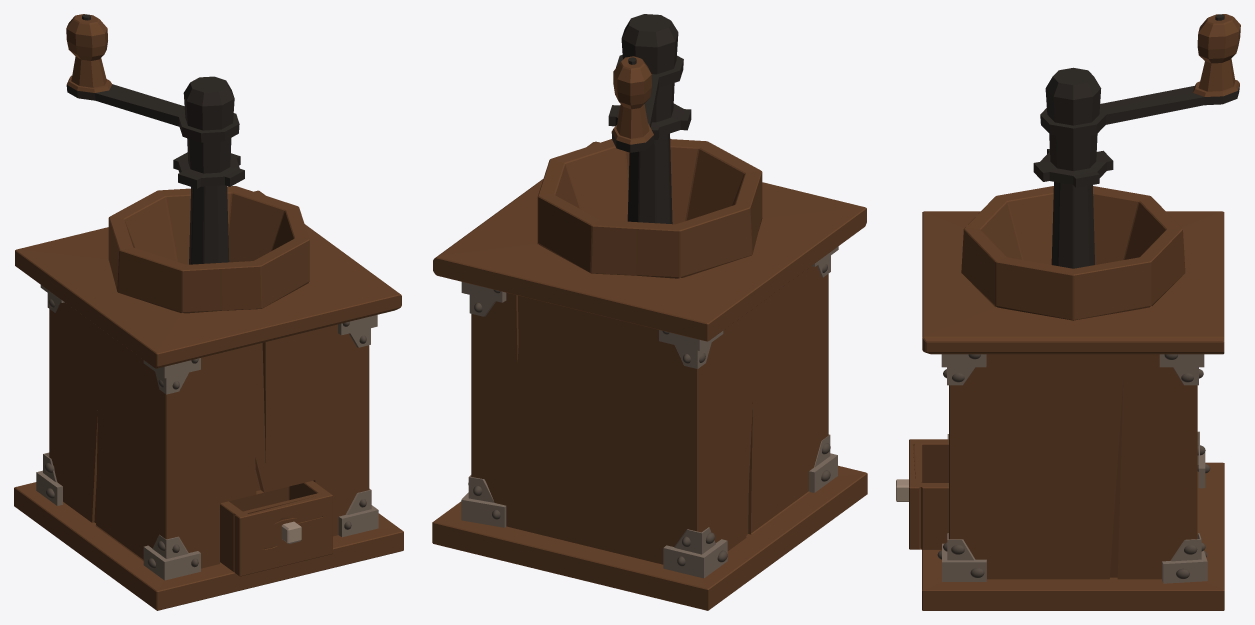
File: kahve değirmeni.fbx
The picture shows the model from 3 angles, left to right: view 1: azimuth 30°, elevation 25°; view 2: azimuth 150°, elevation 25°; view 3: azimuth 270°, elevation 25°; orthographic projection. The views are drawn at different scales.
Visible parts, largest first — view 1: Cube.002, ww, Sphere.026, Cube.005; view 2: Cube.002, Sphere.026, Cube.005; view 3: Cube.002, Cube.005, Sphere.026, ww.
Boxes of the visible parts, x1,y1,x2,y2 form: Cube.002: [14, 76, 403, 610]; ww: [220, 481, 332, 576]; Sphere.026: [36, 285, 378, 580]; Cube.005: [66, 14, 239, 142]; Cube.002: [432, 14, 867, 610]; Sphere.026: [461, 246, 838, 578]; Cube.005: [611, 55, 683, 152]; Cube.002: [922, 67, 1224, 610]; Cube.005: [1040, 14, 1240, 138]; Sphere.026: [937, 354, 1210, 583]; ww: [896, 439, 948, 549].
Size of the model in its own units: 2 by 3.67 by 2.28.
